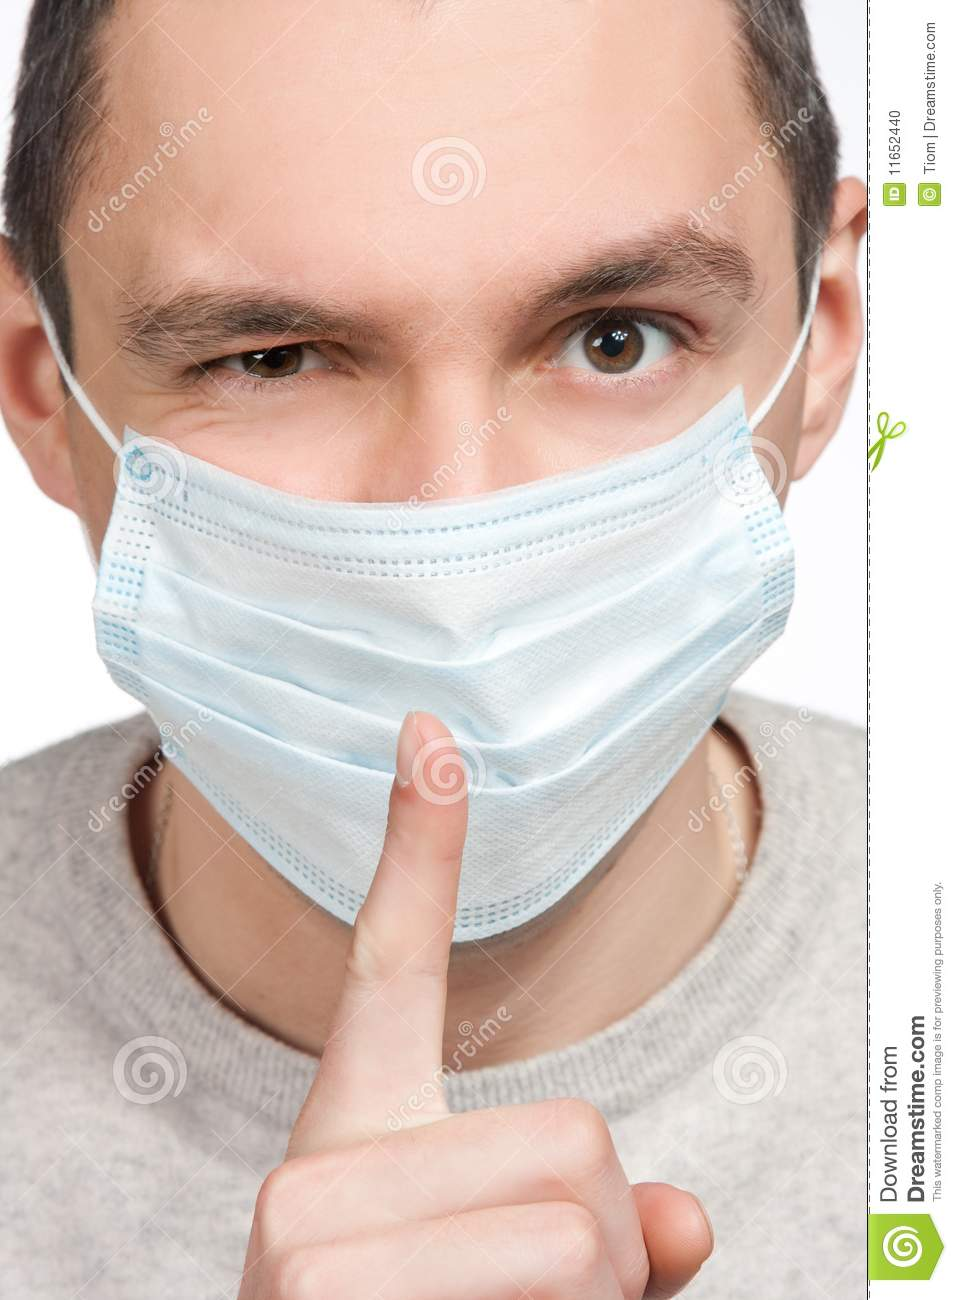mask: (93, 418, 797, 952)
